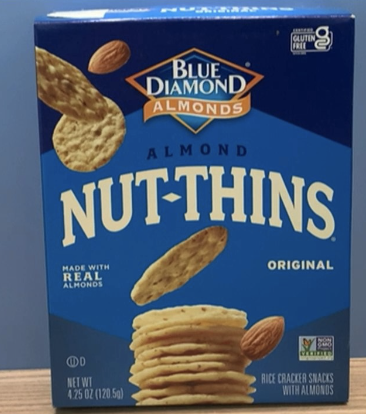crackers_150g: (54, 35, 337, 405)
